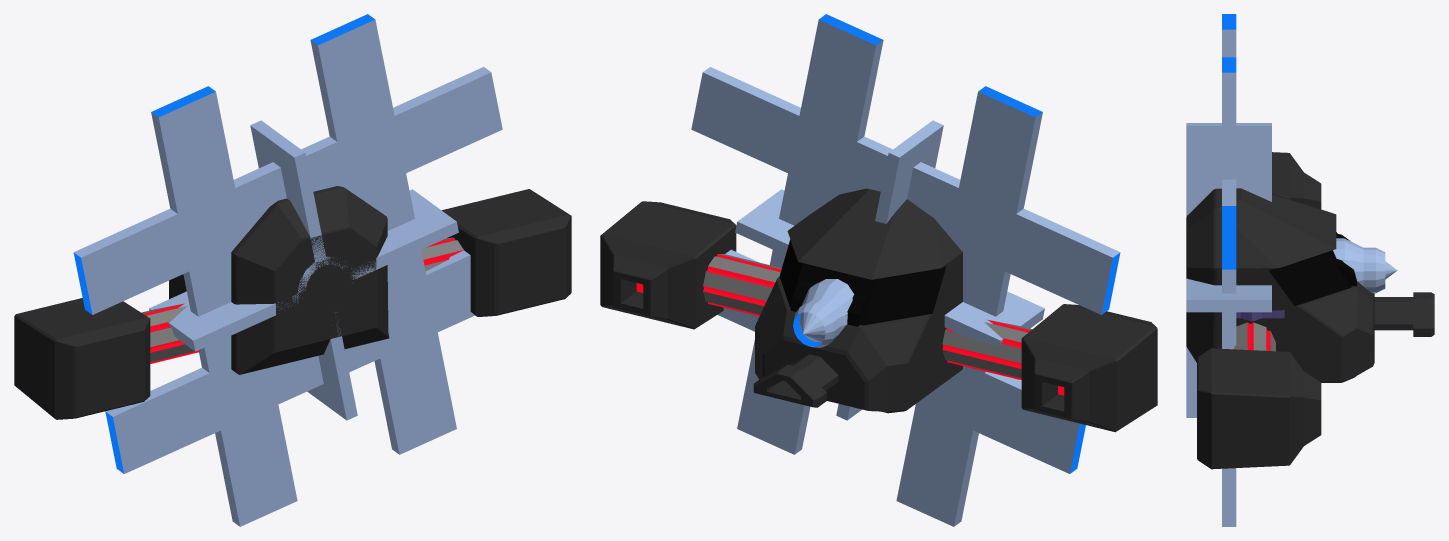
Rendered from Tank.fbx.
3 views of the same model, side by side, from view 1: azimuth 30°, elevation 25°; view 2: azimuth 150°, elevation 25°; view 3: azimuth 270°, elevation 25° (orthographic). The views are drawn at different scales.
Parts seen in each view (by area): view 1: Missile, Cube.001, Cube.005, Cube.003, Cylinder.003, Cylinder.002; view 2: Missile, Cube.001, Cube.005, Cube.003, Cylinder.002, Cylinder.003, Cube.004, Base; view 3: Cube.001, Missile, Cube.003, Cube.004, Cube.005, Cylinder.002, Cube, Base.
Boxes of the visible parts, x1,y1,x2,y2 form: Missile: (73,14,502,526); Cube.001: (169,186,389,374); Cube.005: (14,298,150,419); Cube.003: (442,189,571,316); Cylinder.003: (141,303,200,363); Cylinder.002: (421,237,463,271); Missile: (691,14,1120,526); Cube.001: (755,188,962,413); Cube.005: (1021,304,1157,432); Cube.003: (600,201,736,329); Cylinder.002: (703,254,781,316); Cylinder.003: (942,319,1032,380); Cube.004: (753,354,838,407); Base: (790,281,867,326); Cube.001: (1186,188,1374,382); Missile: (1186,14,1397,526); Cube.003: (1197,348,1321,469); Cube.004: (1374,292,1434,336); Cube.005: (1272,152,1321,209); Cylinder.002: (1234,322,1275,351); Cube: (1236,310,1284,321); Base: (1336,233,1356,286).
Size of the model in its own units: 1350 by 1184 by 580.
